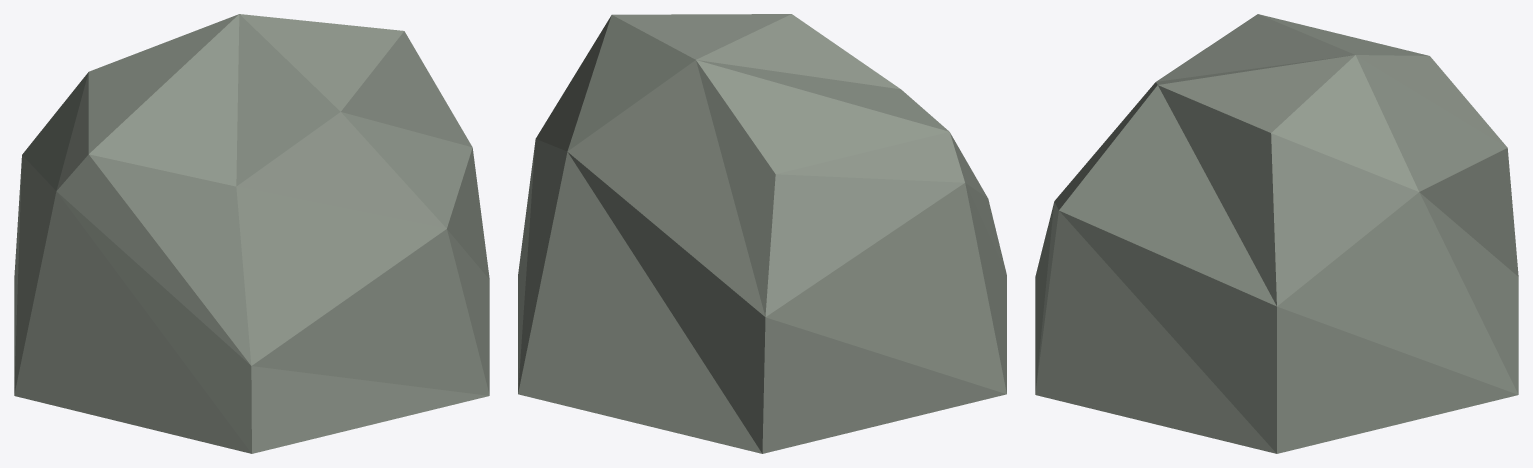
Rendered from Rock_Dark_1.fbx.
3 views of the same model, side by side, from view 1: azimuth 30°, elevation 25°; view 2: azimuth 150°, elevation 25°; view 3: azimuth 270°, elevation 25° (orthographic). The views are drawn at different scales.
Parts seen in each view (by area): view 1: Rock_Dark_1; view 2: Rock_Dark_1; view 3: Rock_Dark_1.
Part boxes in pixels (<box>): Rock_Dark_1: <box>14,14,489,453</box>; Rock_Dark_1: <box>518,14,1006,453</box>; Rock_Dark_1: <box>1035,14,1518,453</box>.
Size of the model in its own units: 2 by 1.16 by 1.73.
